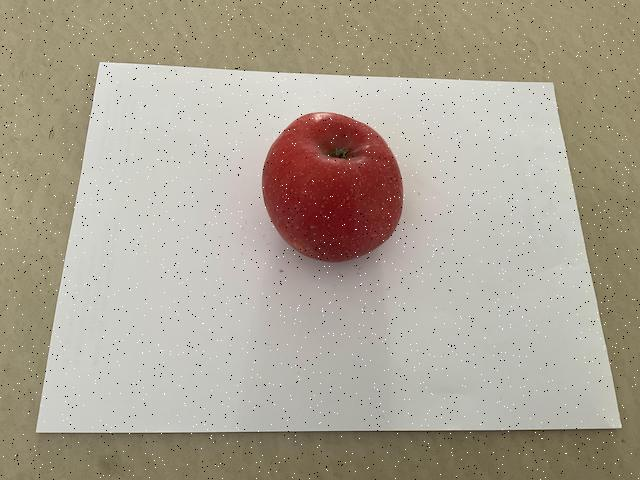apple: (256, 107, 408, 266)
